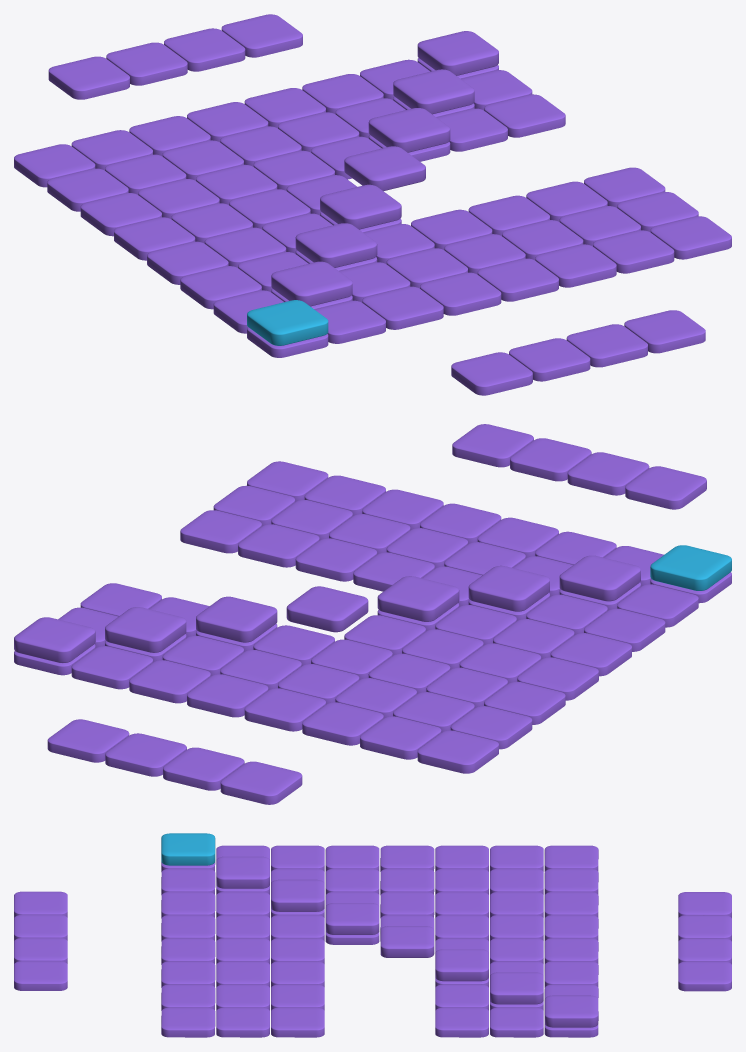
Rendered from Level11.glb.
3 views of the same model, one above another, from view 1: azimuth 30°, elevation 25°; view 2: azimuth 150°, elevation 25°; view 3: azimuth 270°, elevation 25° (orthographic). The views are drawn at different scales.
Parts seen in each view (by area): view 1: block, block.005, block.002, block.001, block.003, block.004, block.006, block.007, platform.008, platform.009, platform.006, platform.025 (+54 smaller); view 2: block.004, block.003, block.001, block.002, block.005, block.007, block.006, block, platform.009, platform.055, platform.008, platform.016 (+55 smaller); view 3: block, block.007, block.006, block.001, block.002, block.005, block.003, block.004, platform.062, platform.057, platform.059, platform.060 (+55 smaller).
Boxes of the visible parts, bbox=[...] form: block: bbox=[247, 300, 328, 345]; block.005: bbox=[368, 108, 450, 152]; block.002: bbox=[295, 223, 377, 267]; block.001: bbox=[271, 261, 352, 306]; block.003: bbox=[320, 184, 401, 229]; block.004: bbox=[344, 146, 425, 191]; block.006: bbox=[393, 69, 474, 114]; block.007: bbox=[417, 31, 498, 75]; platform.008: bbox=[451, 352, 532, 395]; platform.009: bbox=[48, 56, 129, 99]; platform.006: bbox=[420, 272, 501, 315]; platform.025: bbox=[164, 28, 245, 71]; block.004: bbox=[286, 586, 368, 632]; block.003: bbox=[377, 576, 459, 621]; block.001: bbox=[559, 555, 640, 601]; block.002: bbox=[468, 565, 549, 611]; block.005: bbox=[196, 596, 277, 642]; block.007: bbox=[14, 617, 95, 663]; block.006: bbox=[105, 607, 186, 652]; block: bbox=[650, 545, 731, 590]; platform.009: bbox=[220, 761, 302, 804]; platform.055: bbox=[417, 730, 498, 773]; platform.008: bbox=[625, 466, 706, 509]; platform.016: bbox=[567, 452, 649, 495]; block: bbox=[161, 833, 215, 865]; block.007: bbox=[544, 995, 598, 1027]; block.006: bbox=[490, 972, 543, 1004]; block.001: bbox=[216, 856, 269, 888]; block.002: bbox=[271, 879, 324, 911]; block.005: bbox=[435, 949, 488, 981]; block.003: bbox=[325, 903, 379, 934]; block.004: bbox=[380, 926, 434, 957]; platform.062: bbox=[161, 1007, 215, 1037]; platform.057: bbox=[678, 961, 731, 991]; platform.059: bbox=[490, 1007, 543, 1037]; platform.060: bbox=[271, 1007, 324, 1037].
Size of what is drawn, in the model's own units: 19.72 by 1.04 by 32.39.
